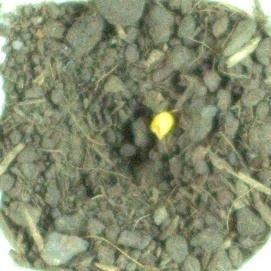chilli seed: (148, 111, 173, 141)
